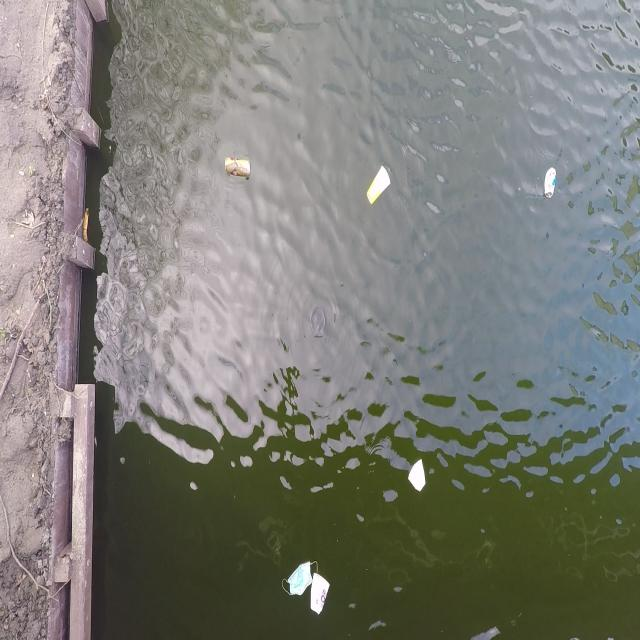Non plastique: (363, 159, 397, 209), (282, 554, 314, 602), (220, 153, 257, 187), (309, 572, 332, 618), (541, 157, 561, 206), (407, 455, 427, 500)
